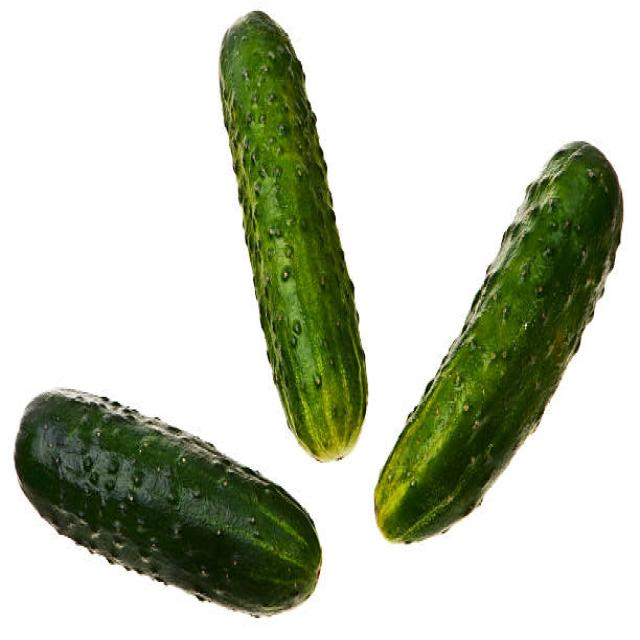cucumber: (372, 139, 624, 543), (14, 385, 326, 613), (217, 9, 369, 460)
